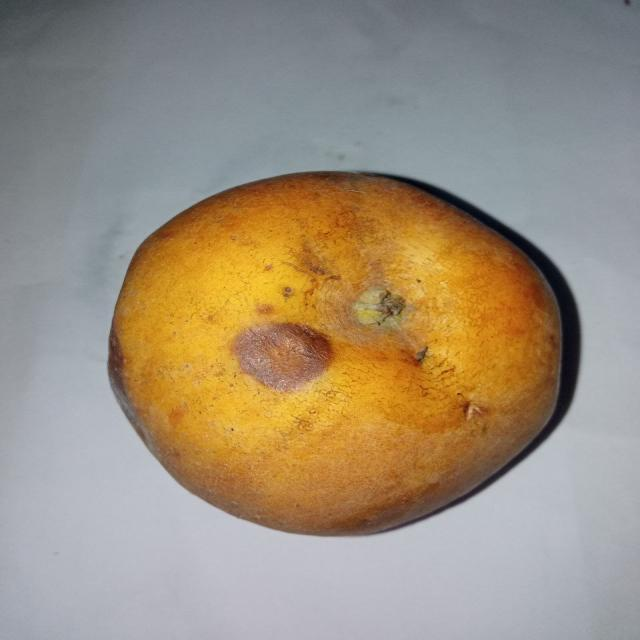rotten_apple: (105, 171, 568, 535)
